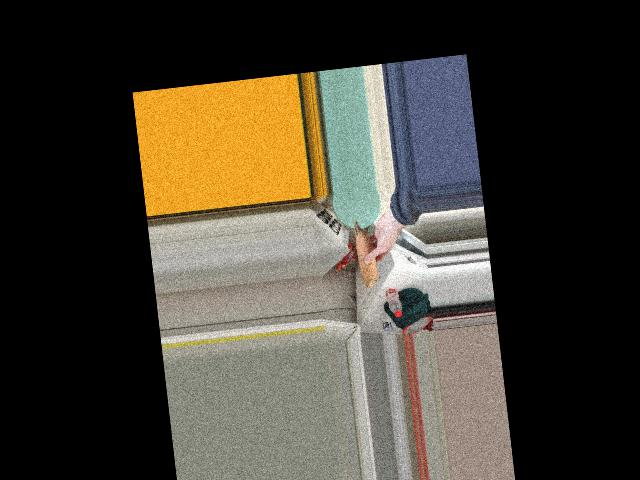sweet_potato: (351, 217, 384, 291)
